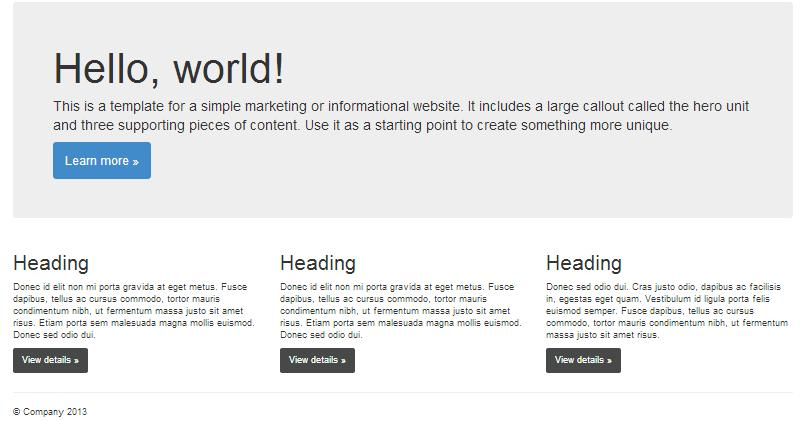button: (45, 139, 169, 197), (279, 345, 360, 379), (546, 343, 624, 378), (10, 344, 91, 374)
